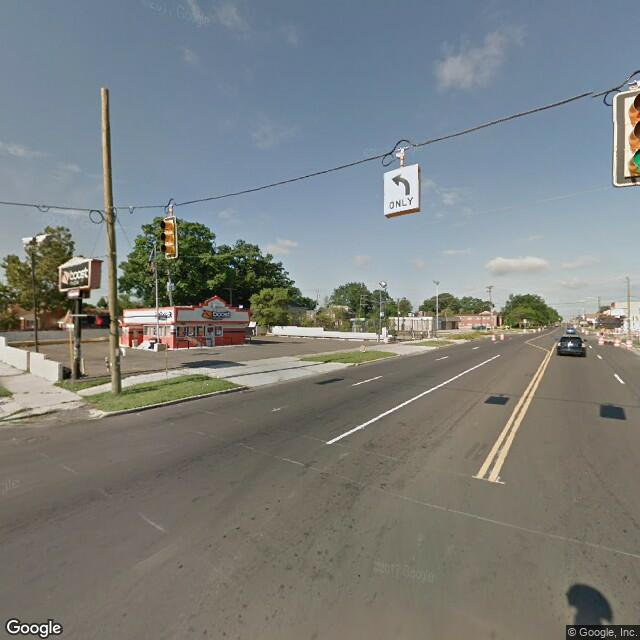litter: (197, 380, 218, 387)
